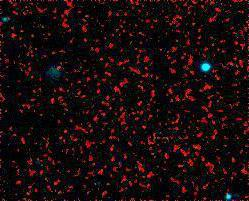star: (72, 55, 102, 85)
